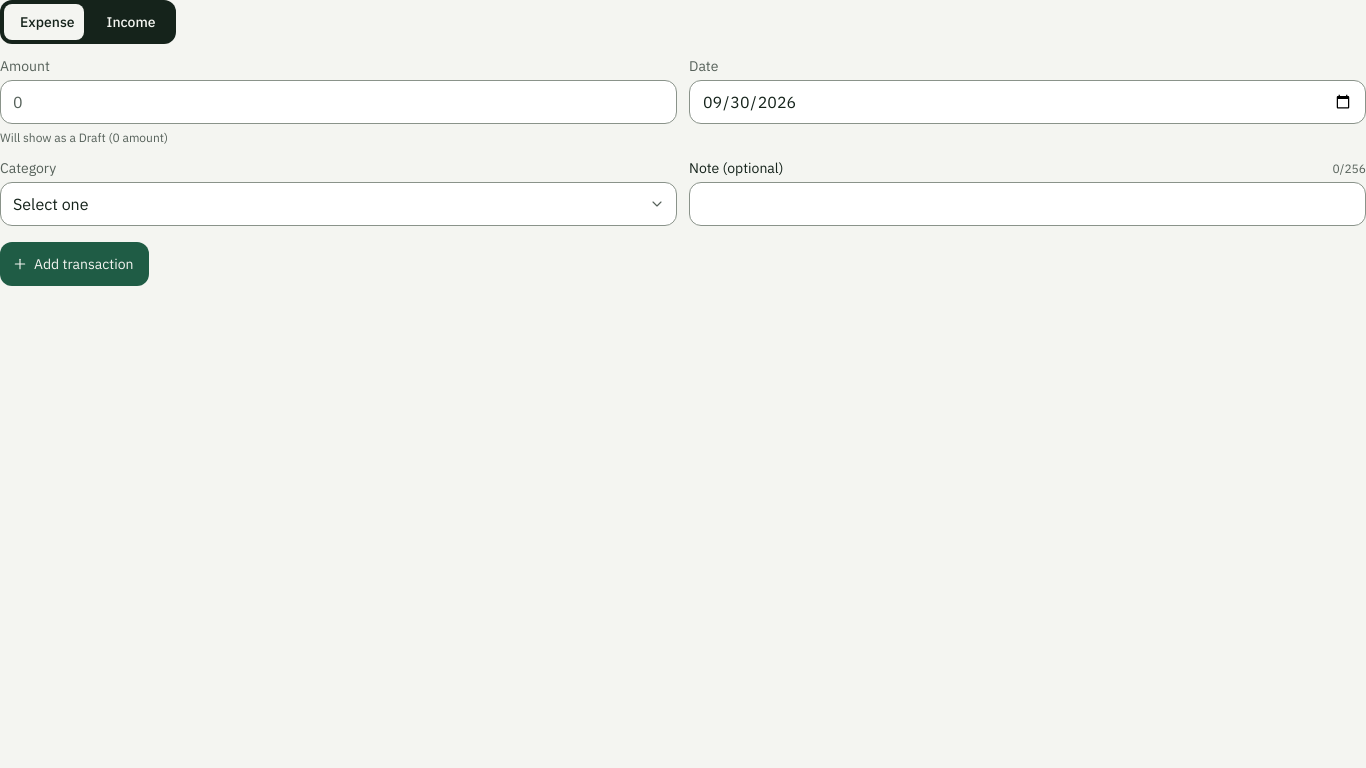
TransactionForm category creation › shows an error and keeps the modal open when creation fails
The image size is (1366, 768).
Select "+ Add new category…" in the dropdown: (338, 204) x1=0 y1=182 x2=677 y2=226
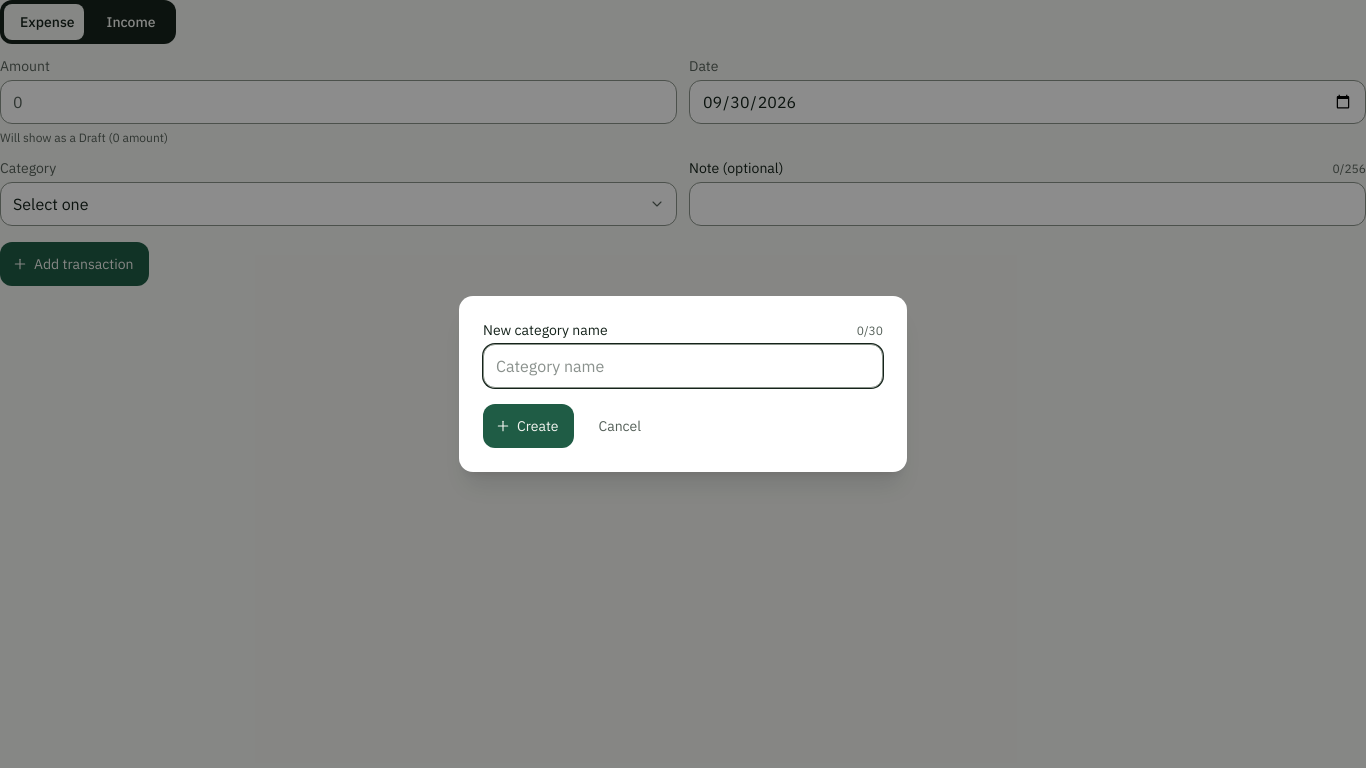
In the field with placeholder "category name": (683, 366) x1=483 y1=344 x2=883 y2=388, type "Subscriptions"
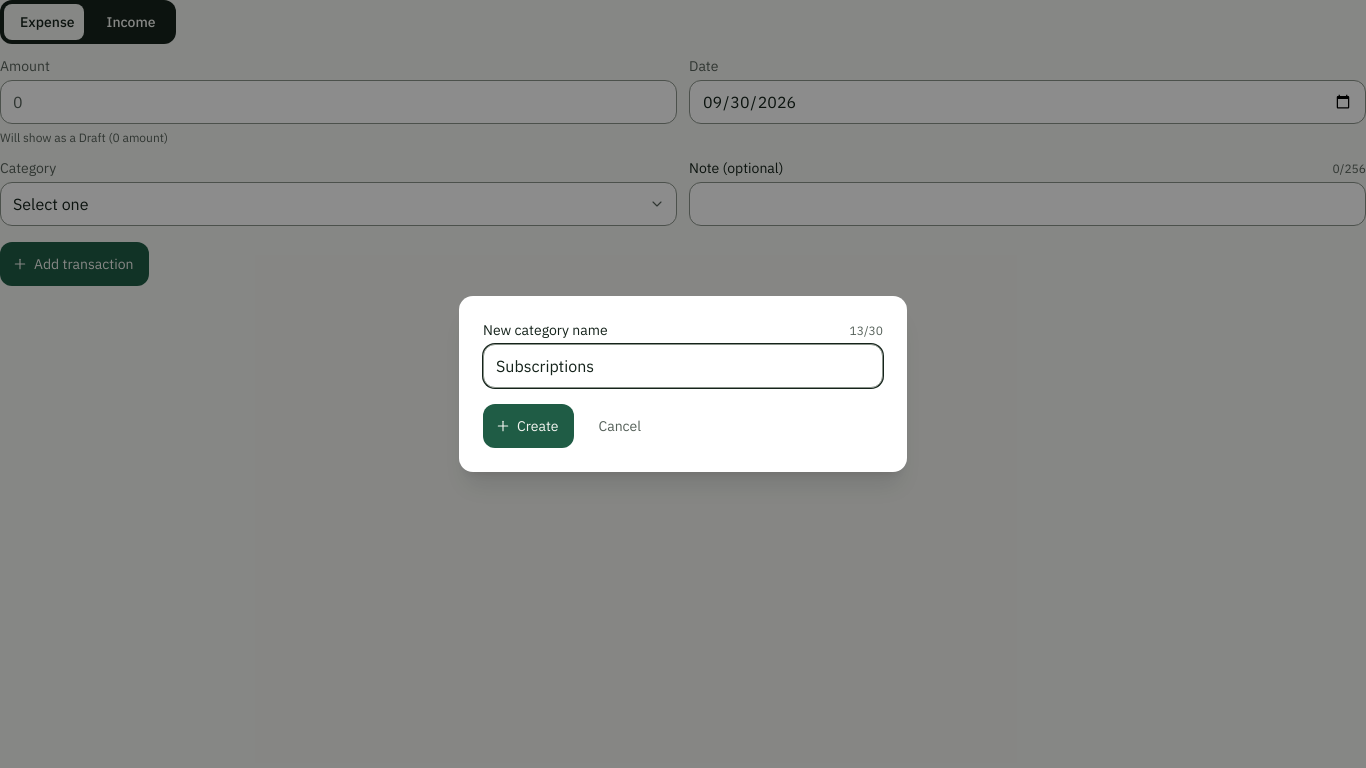
Click the button "Create": (529, 426) x1=483 y1=404 x2=574 y2=448
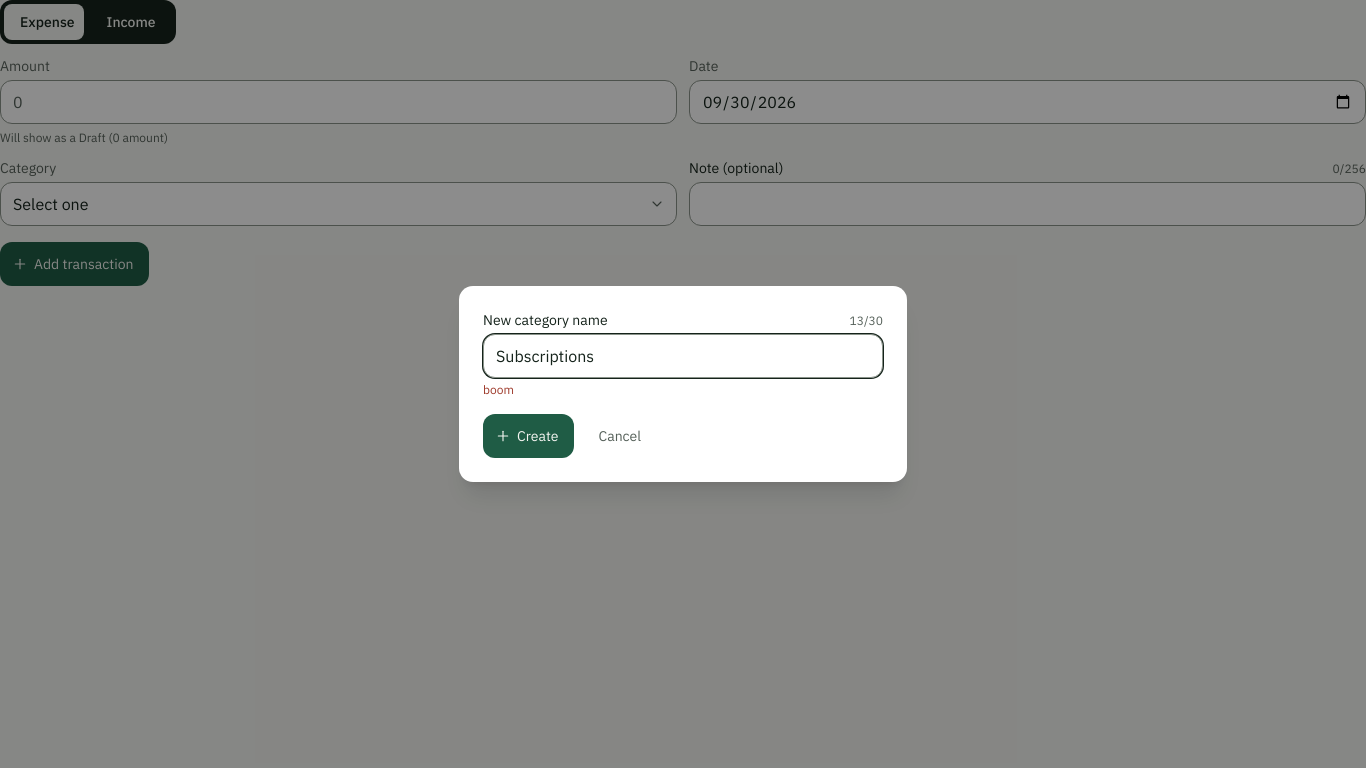
expect the text "boom" is shown: met, box x1=483 y1=382 x2=514 y2=397
